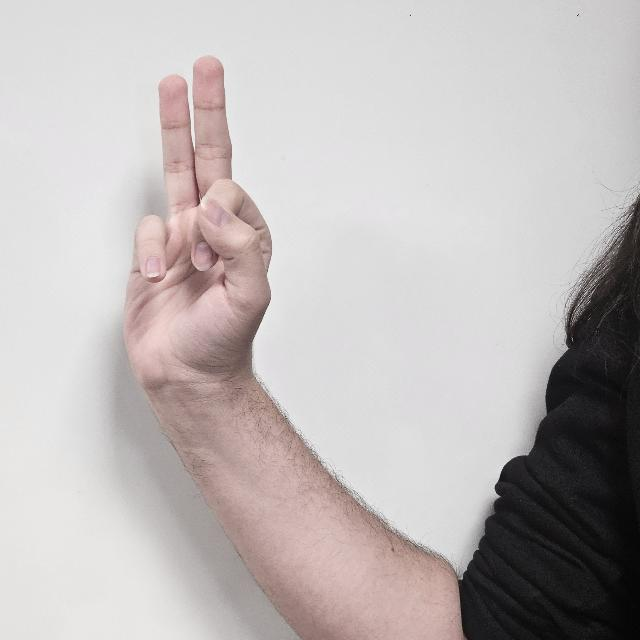R: (120, 56, 280, 414)
